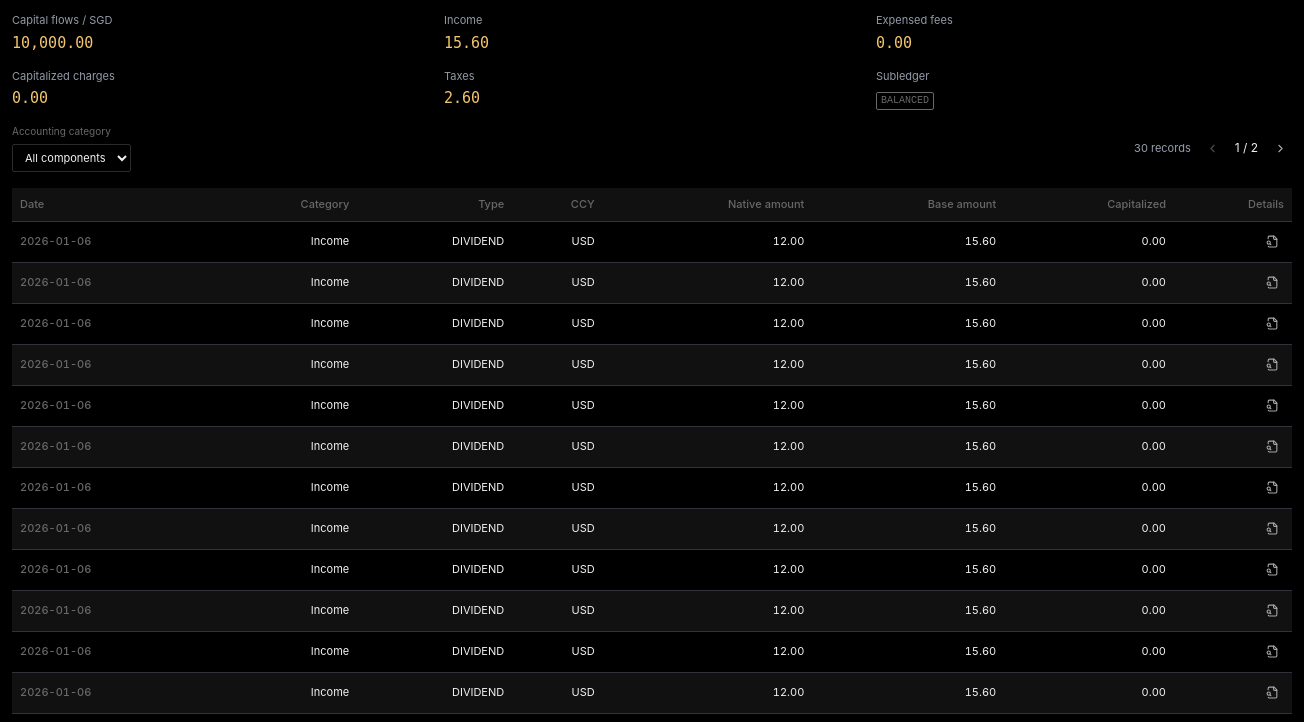
accounting subledger controls › paginates records and resets to the first page on a category change
The image size is (1304, 722).
Click the button named "Next accounting page": (1280, 148) [1268,136,1292,160]
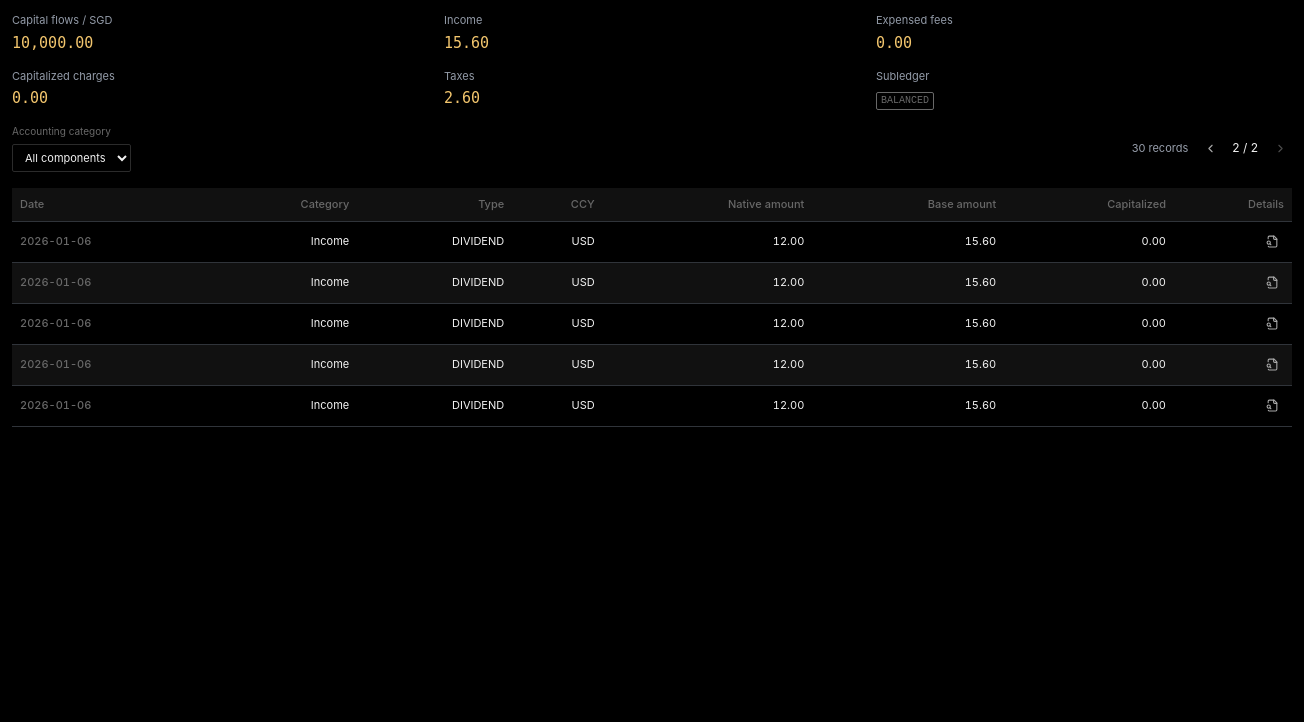
expect the number of rows is 6: met, box [12,188,1292,221]; [12,221,1292,262]; [12,262,1292,303]; [12,303,1292,344]; [12,344,1292,385]; [12,385,1292,426]
expect the button named "Next accounting page" is disabled: met, box [1268,136,1292,160]
Select "Income" in the dropdown labelled "Accounting category": (72, 158) [12,144,131,172]
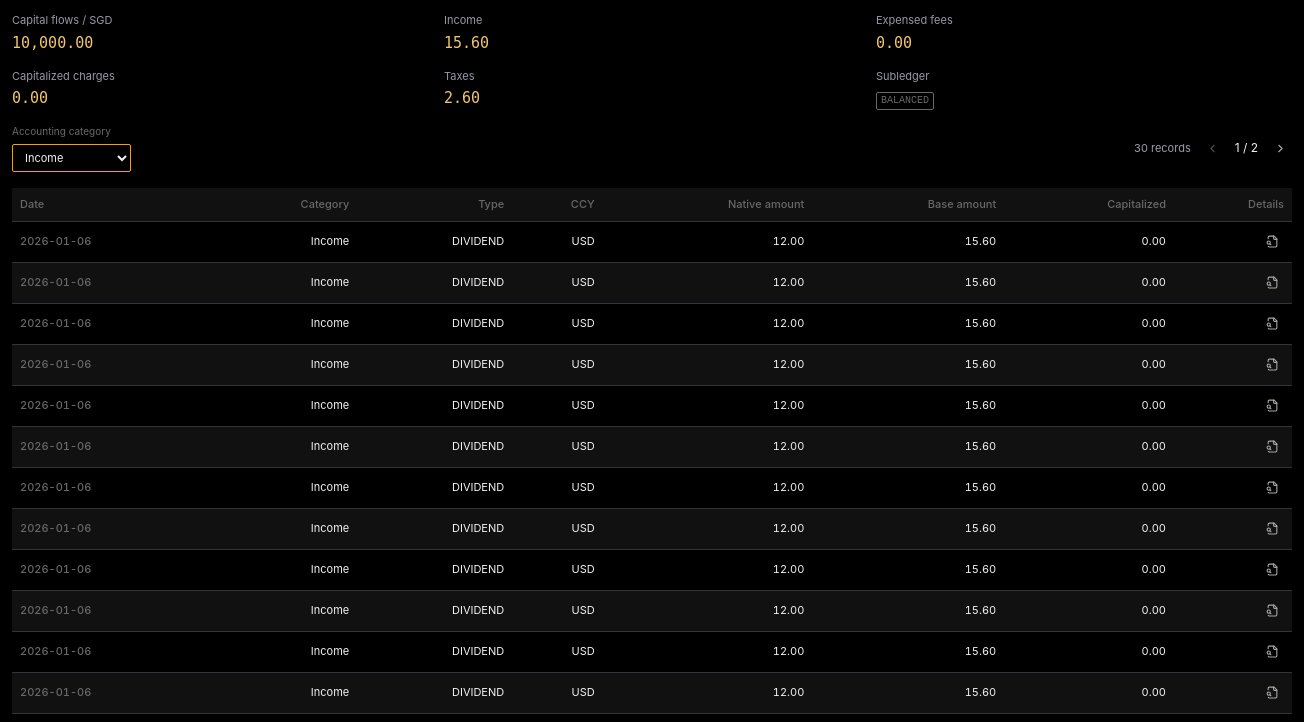
expect the number of rows is 26: met
expect the button named "Previous accounting page" is disabled: met, box [1201,136,1225,160]
